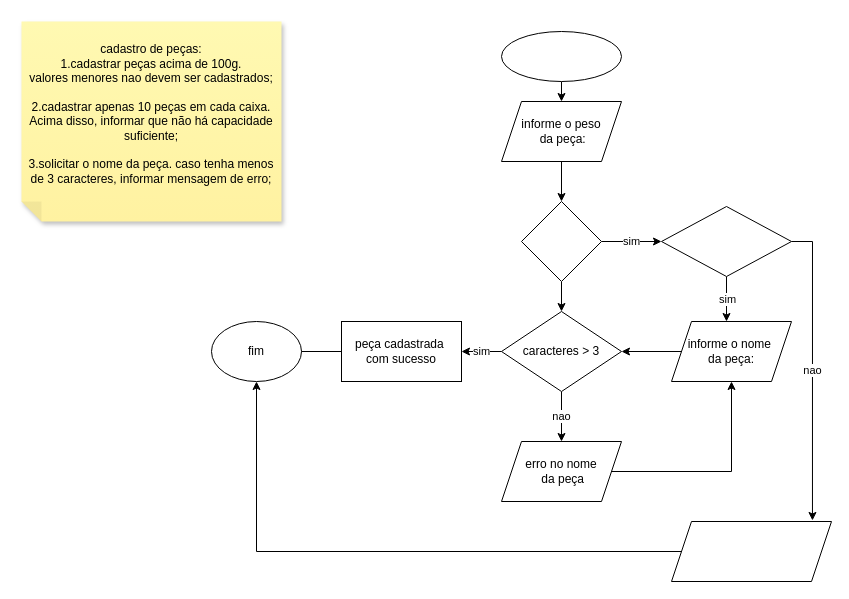
Image size: 849x599. Some labels were removed from this diagram. The shapes that lost their labels are listed below. From the top down, each one's centre as x and y in pixels, then its label:
(x=561, y=56): inicio
(x=561, y=241): peso >100g
(x=726, y=241): espaço na caixa <= 10
(x=751, y=551): Não há mais capacidade pra armazenar
